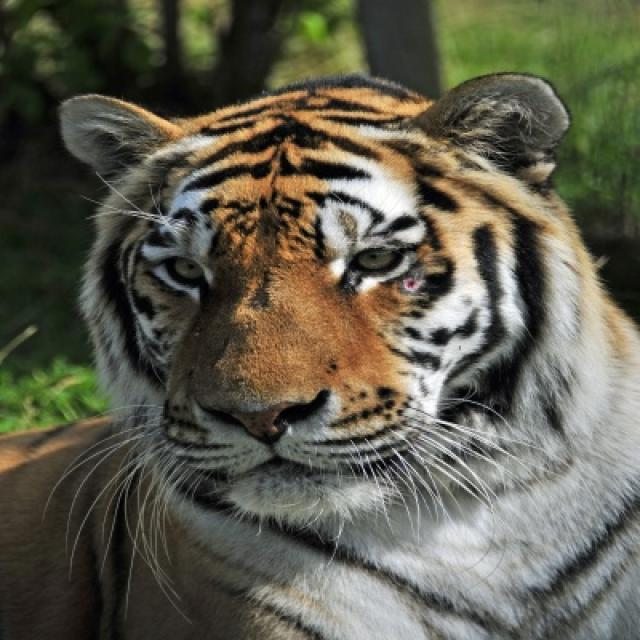Tiger: (78, 105, 550, 528)
